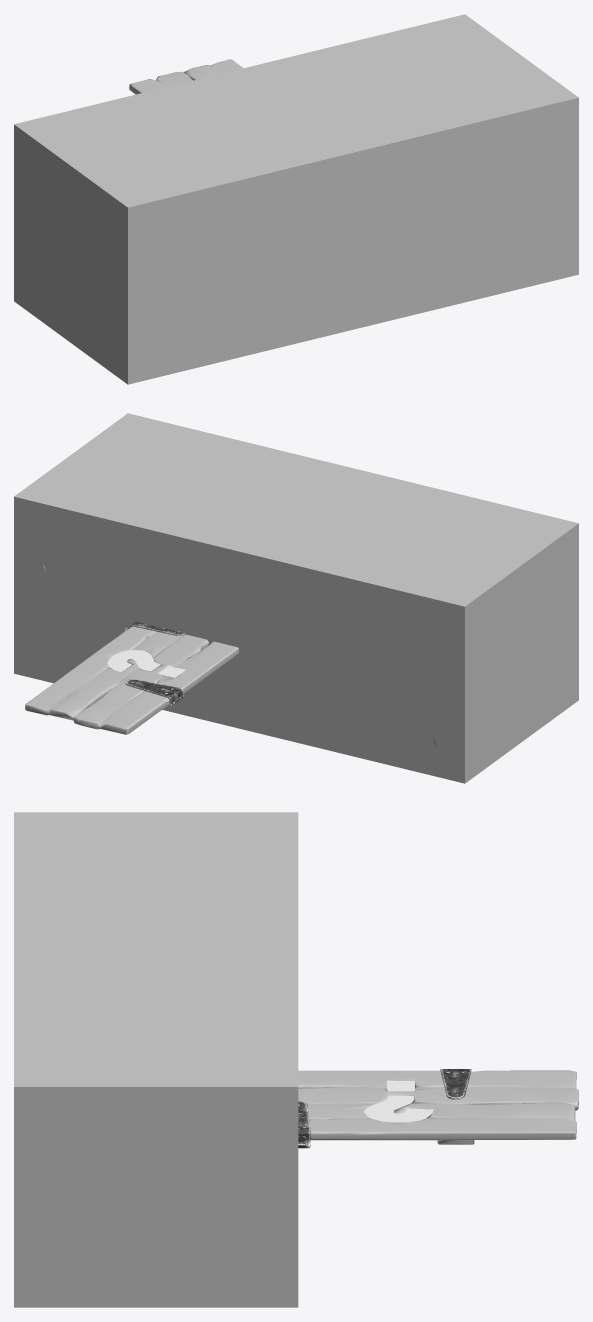
The model's file is zm_random_weapon_box.obj.
3 views of the same model, one above another, from view 1: azimuth 30°, elevation 25°; view 2: azimuth 150°, elevation 25°; view 3: azimuth 270°, elevation 25° (orthographic). The views are drawn at different scales.
Visible parts, largest first — view 1: co_culling, g_box_anim; view 2: co_culling, g_box_anim, g_metal_anim, g_glow02; view 3: co_culling, g_box_anim, g_glow02, g_metal_anim.
Boxes of the visible parts, <box> form: co_culling: <box>14,14,578,384</box>; g_box_anim: <box>129,59,243,94</box>; co_culling: <box>14,413,578,783</box>; g_box_anim: <box>25,626,238,734</box>; g_metal_anim: <box>124,621,185,706</box>; g_glow02: <box>103,647,185,677</box>; co_culling: <box>14,812,298,1307</box>; g_box_anim: <box>298,1070,578,1144</box>; g_glow02: <box>364,1080,438,1122</box>; g_metal_anim: <box>298,1069,471,1148</box>.
Size of the model in its own units: 320 by 120 by 278.
